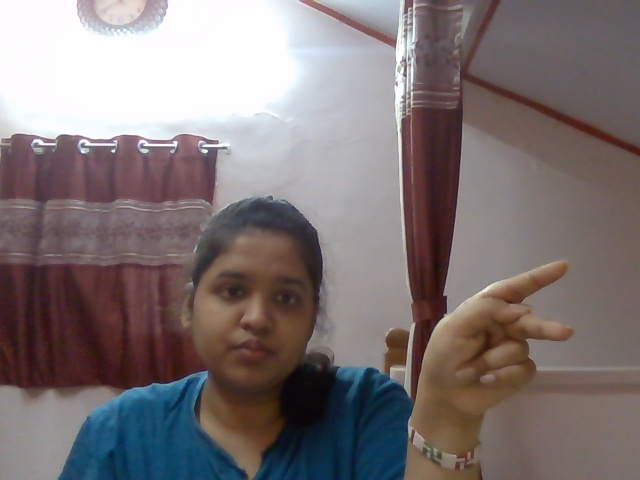p: (405, 250, 589, 416)
